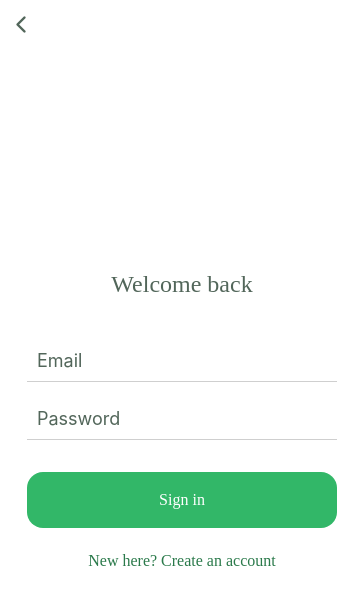
Scenario: Auth › shows the invalid_credentials message and stays on the screen
In the field labelled "Email": coordinates (182, 361) [27, 340, 337, 382], type "ana@example.com"
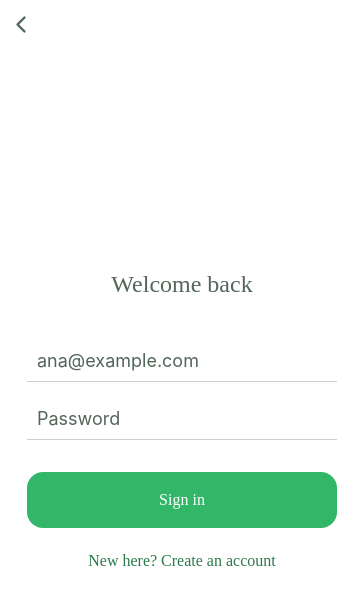
In the password field labelled "Password": coordinates (182, 419) [27, 398, 337, 440], type "wrong-pass"
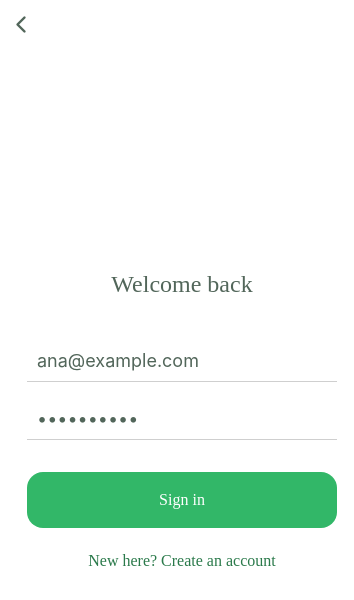
Click the button "Sign in": coordinates (182, 500) [27, 472, 337, 528]
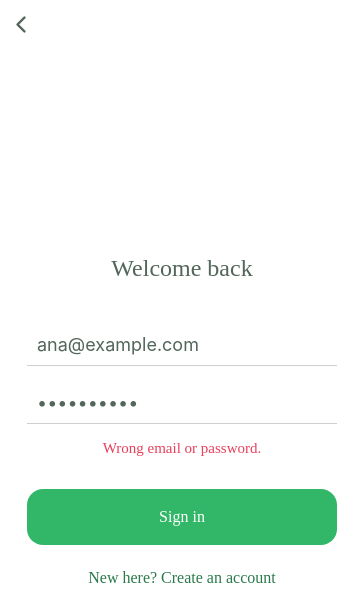
Expected: the text "Wrong email or password." is shown, [103, 440, 261, 456]
